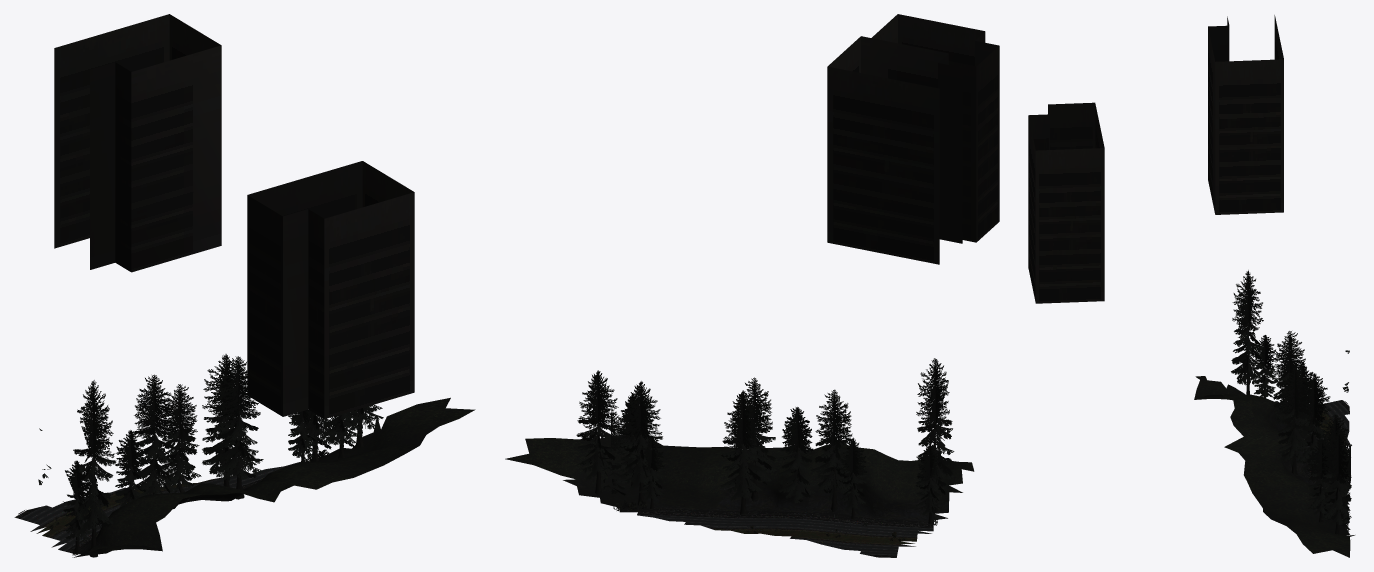
File: cell_-1_-16.gltf
The picture shows the model from 3 angles, left to right: view 1: azimuth 30°, elevation 25°; view 2: azimuth 150°, elevation 25°; view 3: azimuth 270°, elevation 25°; orthographic projection. The views are drawn at different scales.
Parts seen in each view (by area): view 1: cell_-1_-16; view 2: cell_-1_-16; view 3: cell_-1_-16.
Part boxes in pixels (x1,y1,x2,y2): cell_-1_-16: [14, 14, 475, 557]; cell_-1_-16: [505, 14, 999, 557]; cell_-1_-16: [1028, 15, 1354, 557].
Size of the model in its own units: 265 by 298 by 223.
Materials: 24 (24 with a texture image).
